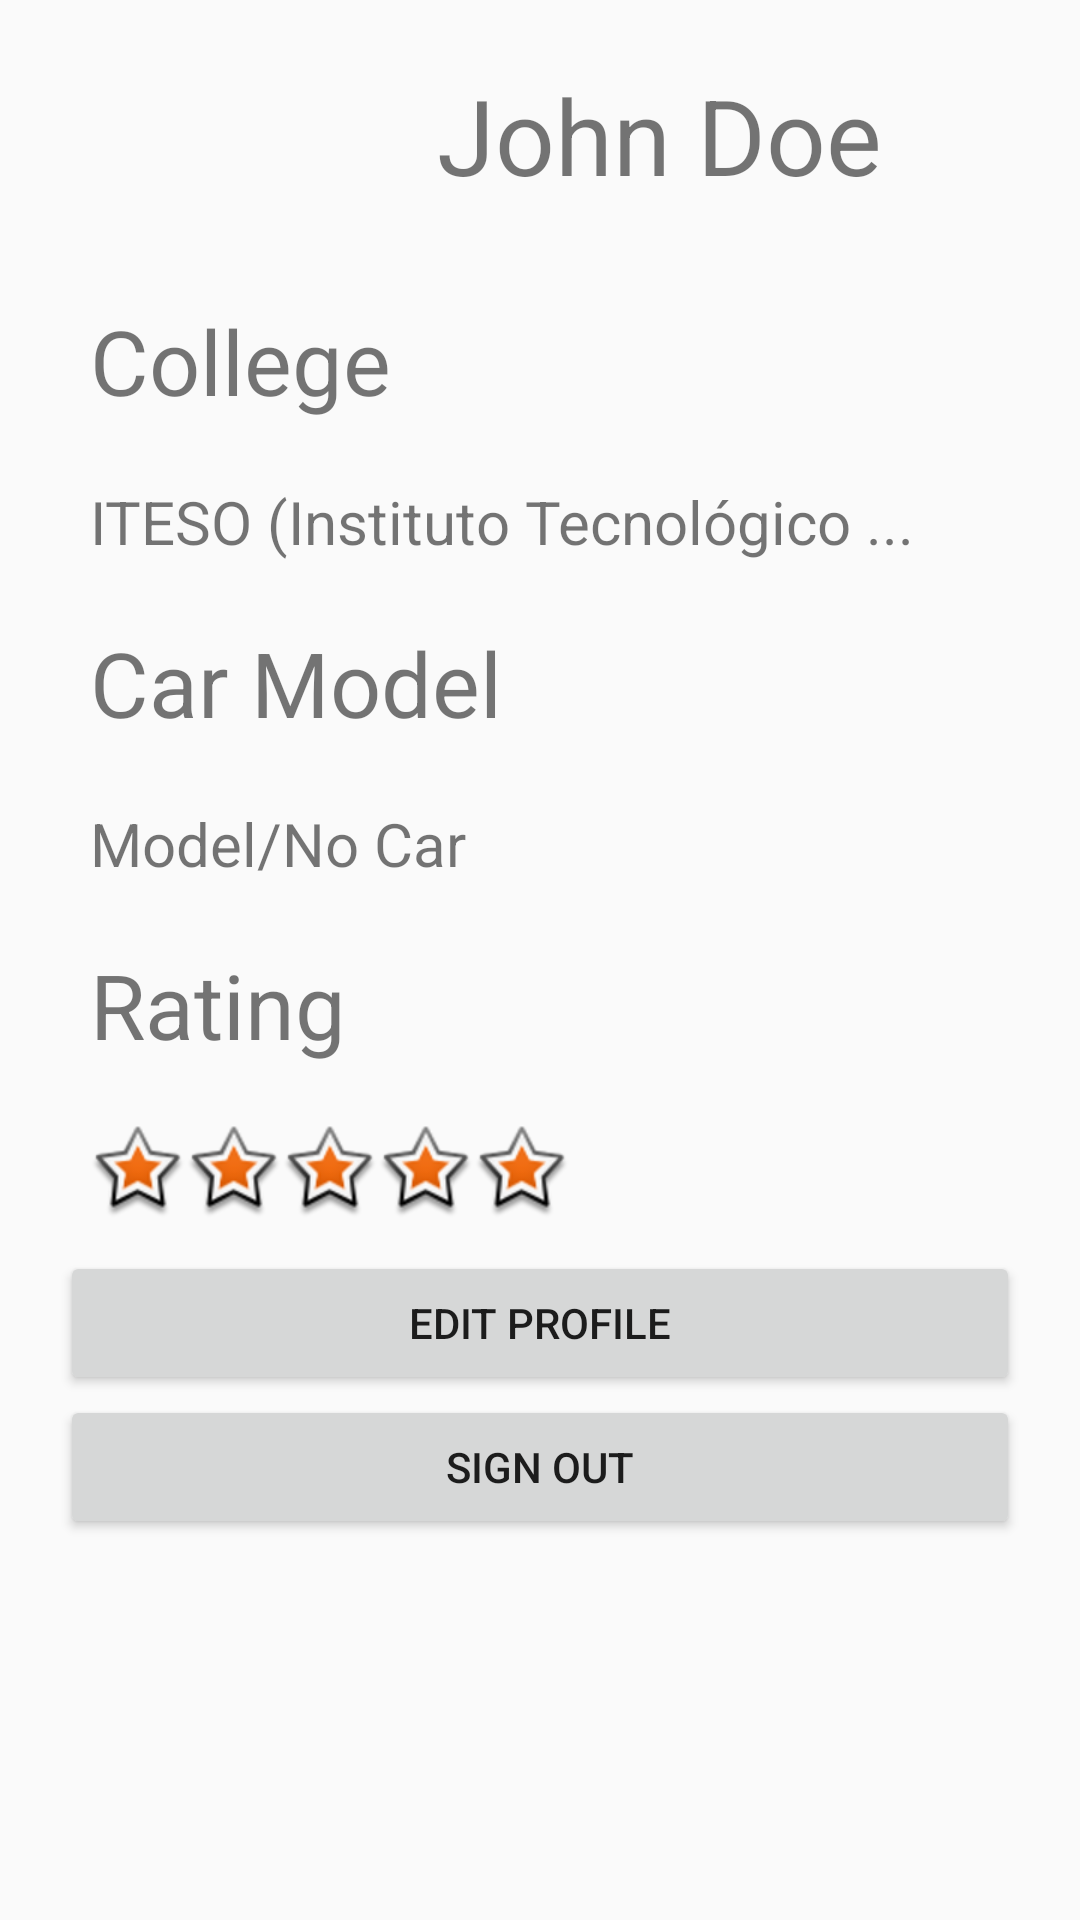

Screen size 1080px x 1920px. Icon name, then its center in pixels as (x,y):
star on: (137,1169), (233,1169), (329,1169), (425,1169), (521,1169)
